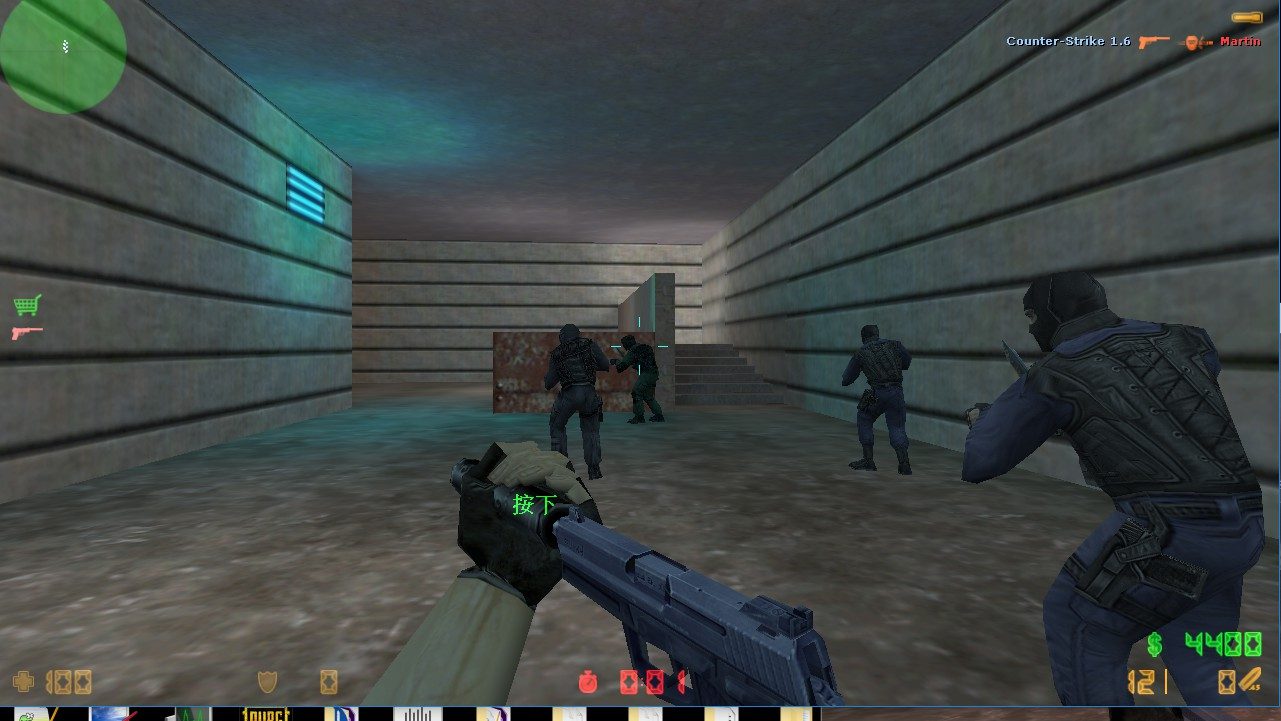person: (954, 264, 1275, 702), (835, 316, 916, 466), (540, 325, 610, 473), (616, 331, 669, 428)
